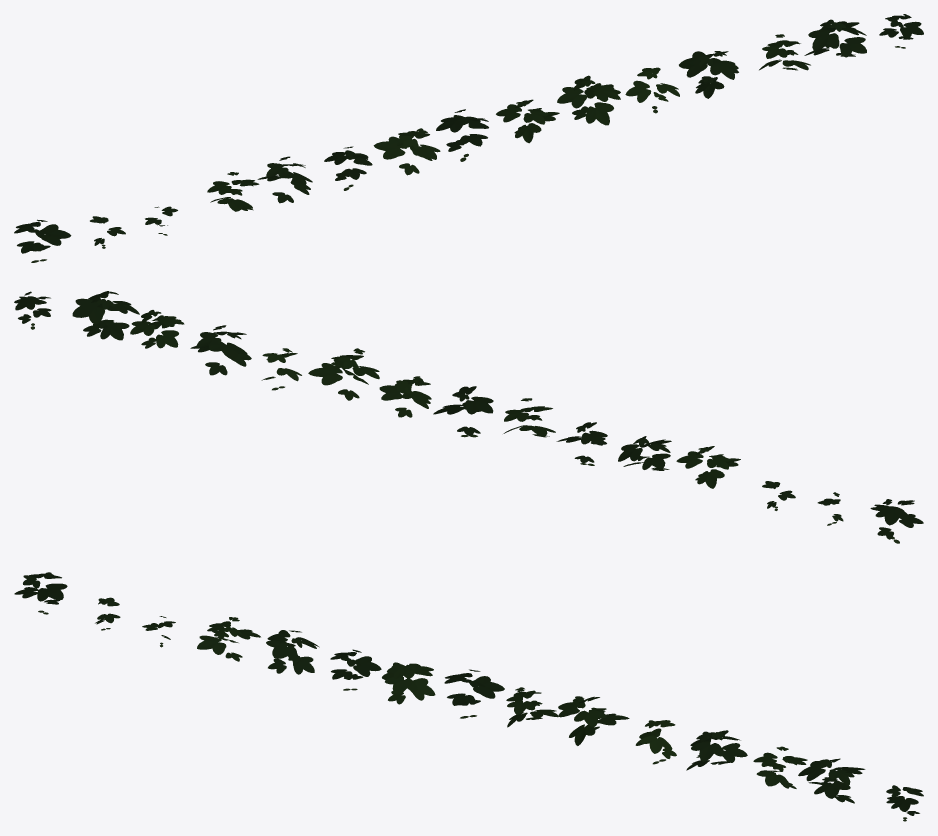
File: ROW_06_SEG3_foliage.dae
3 renders of one model, top to bottom at view 1: azimuth 30°, elevation 25°; view 2: azimuth 150°, elevation 25°; view 3: azimuth 330°, elevation 25°, orthographic.
Parts seen in each view (by area): view 1: ROW_06_SEG3_foliage; view 2: ROW_06_SEG3_foliage; view 3: ROW_06_SEG3_foliage.
Part boxes in pixels (box(x1,y1,x2,y2)): ROW_06_SEG3_foliage: box(14, 14, 923, 262); ROW_06_SEG3_foliage: box(14, 291, 923, 543); ROW_06_SEG3_foliage: box(14, 572, 923, 821).
Bounding box in the file's own units: 4.49 × 0.3143 × 0.253.
